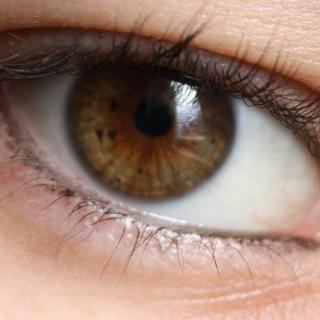pupil: (134, 96, 174, 136)
